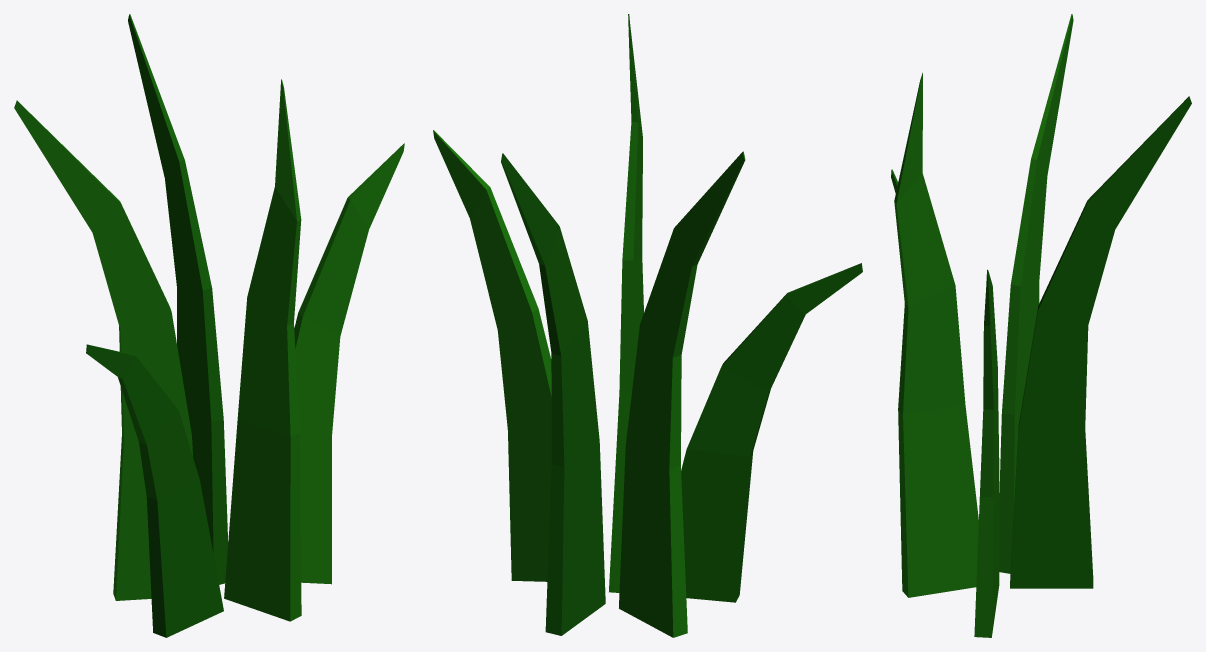
Rendered from ForestGrass(2).fbx.
3 views of the same model, side by side, from view 1: azimuth 30°, elevation 25°; view 2: azimuth 150°, elevation 25°; view 3: azimuth 270°, elevation 25° (orthographic). The views are drawn at different scales.
Parts seen in each view (by area): view 1: Grass(2); view 2: Grass(2); view 3: Grass(2).
Part boxes in pixels (left/top/right/bottom): Grass(2): left=14, top=14, right=404, bottom=637; Grass(2): left=433, top=14, right=862, bottom=637; Grass(2): left=891, top=14, right=1191, bottom=637.
Size of the model in its own units: 0.4666 by 0.6589 by 0.3402.
